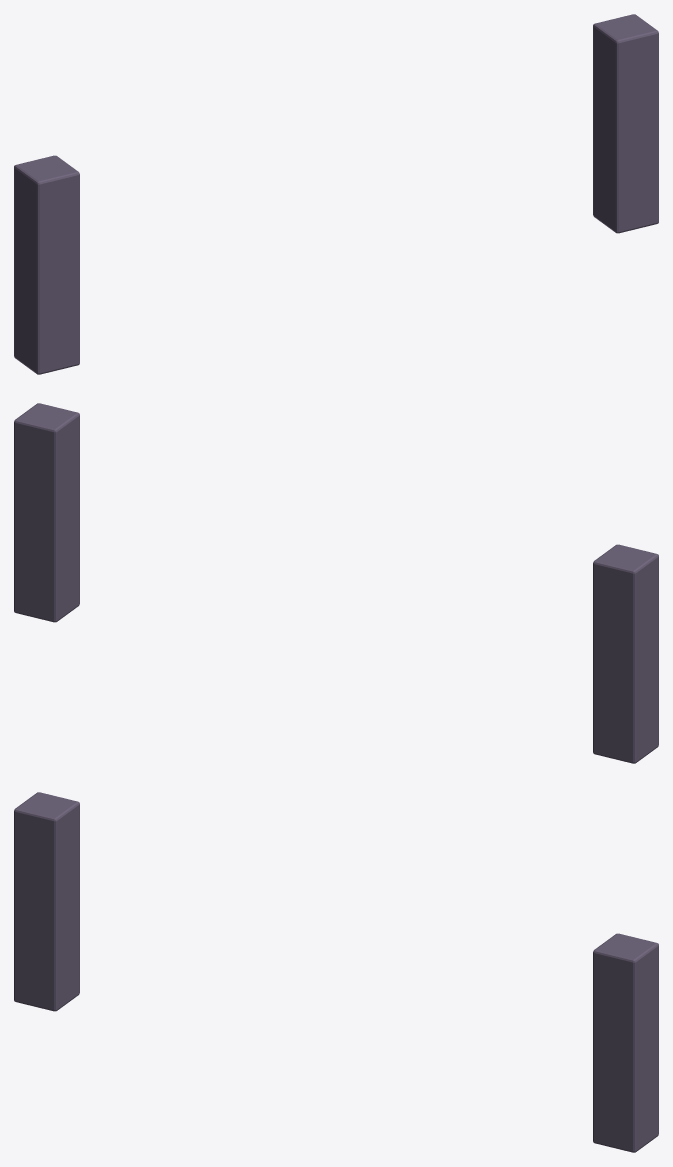
The model's file is Gates_Stone.fbx.
3 views of the same model, one above another, from view 1: azimuth 30°, elevation 25°; view 2: azimuth 150°, elevation 25°; view 3: azimuth 330°, elevation 25° (orthographic).
Visible parts, largest first — view 1: EntryGatePillar-1.001; view 2: EntryGatePillar-1.001; view 3: EntryGatePillar-1.001.
Boxes of the visible parts, x1,y1,x2,y2 form: EntryGatePillar-1.001: (14, 14, 658, 374); EntryGatePillar-1.001: (14, 403, 658, 763); EntryGatePillar-1.001: (14, 792, 658, 1152).
Size of the model in its own units: 10100 by 3000 by 700.
